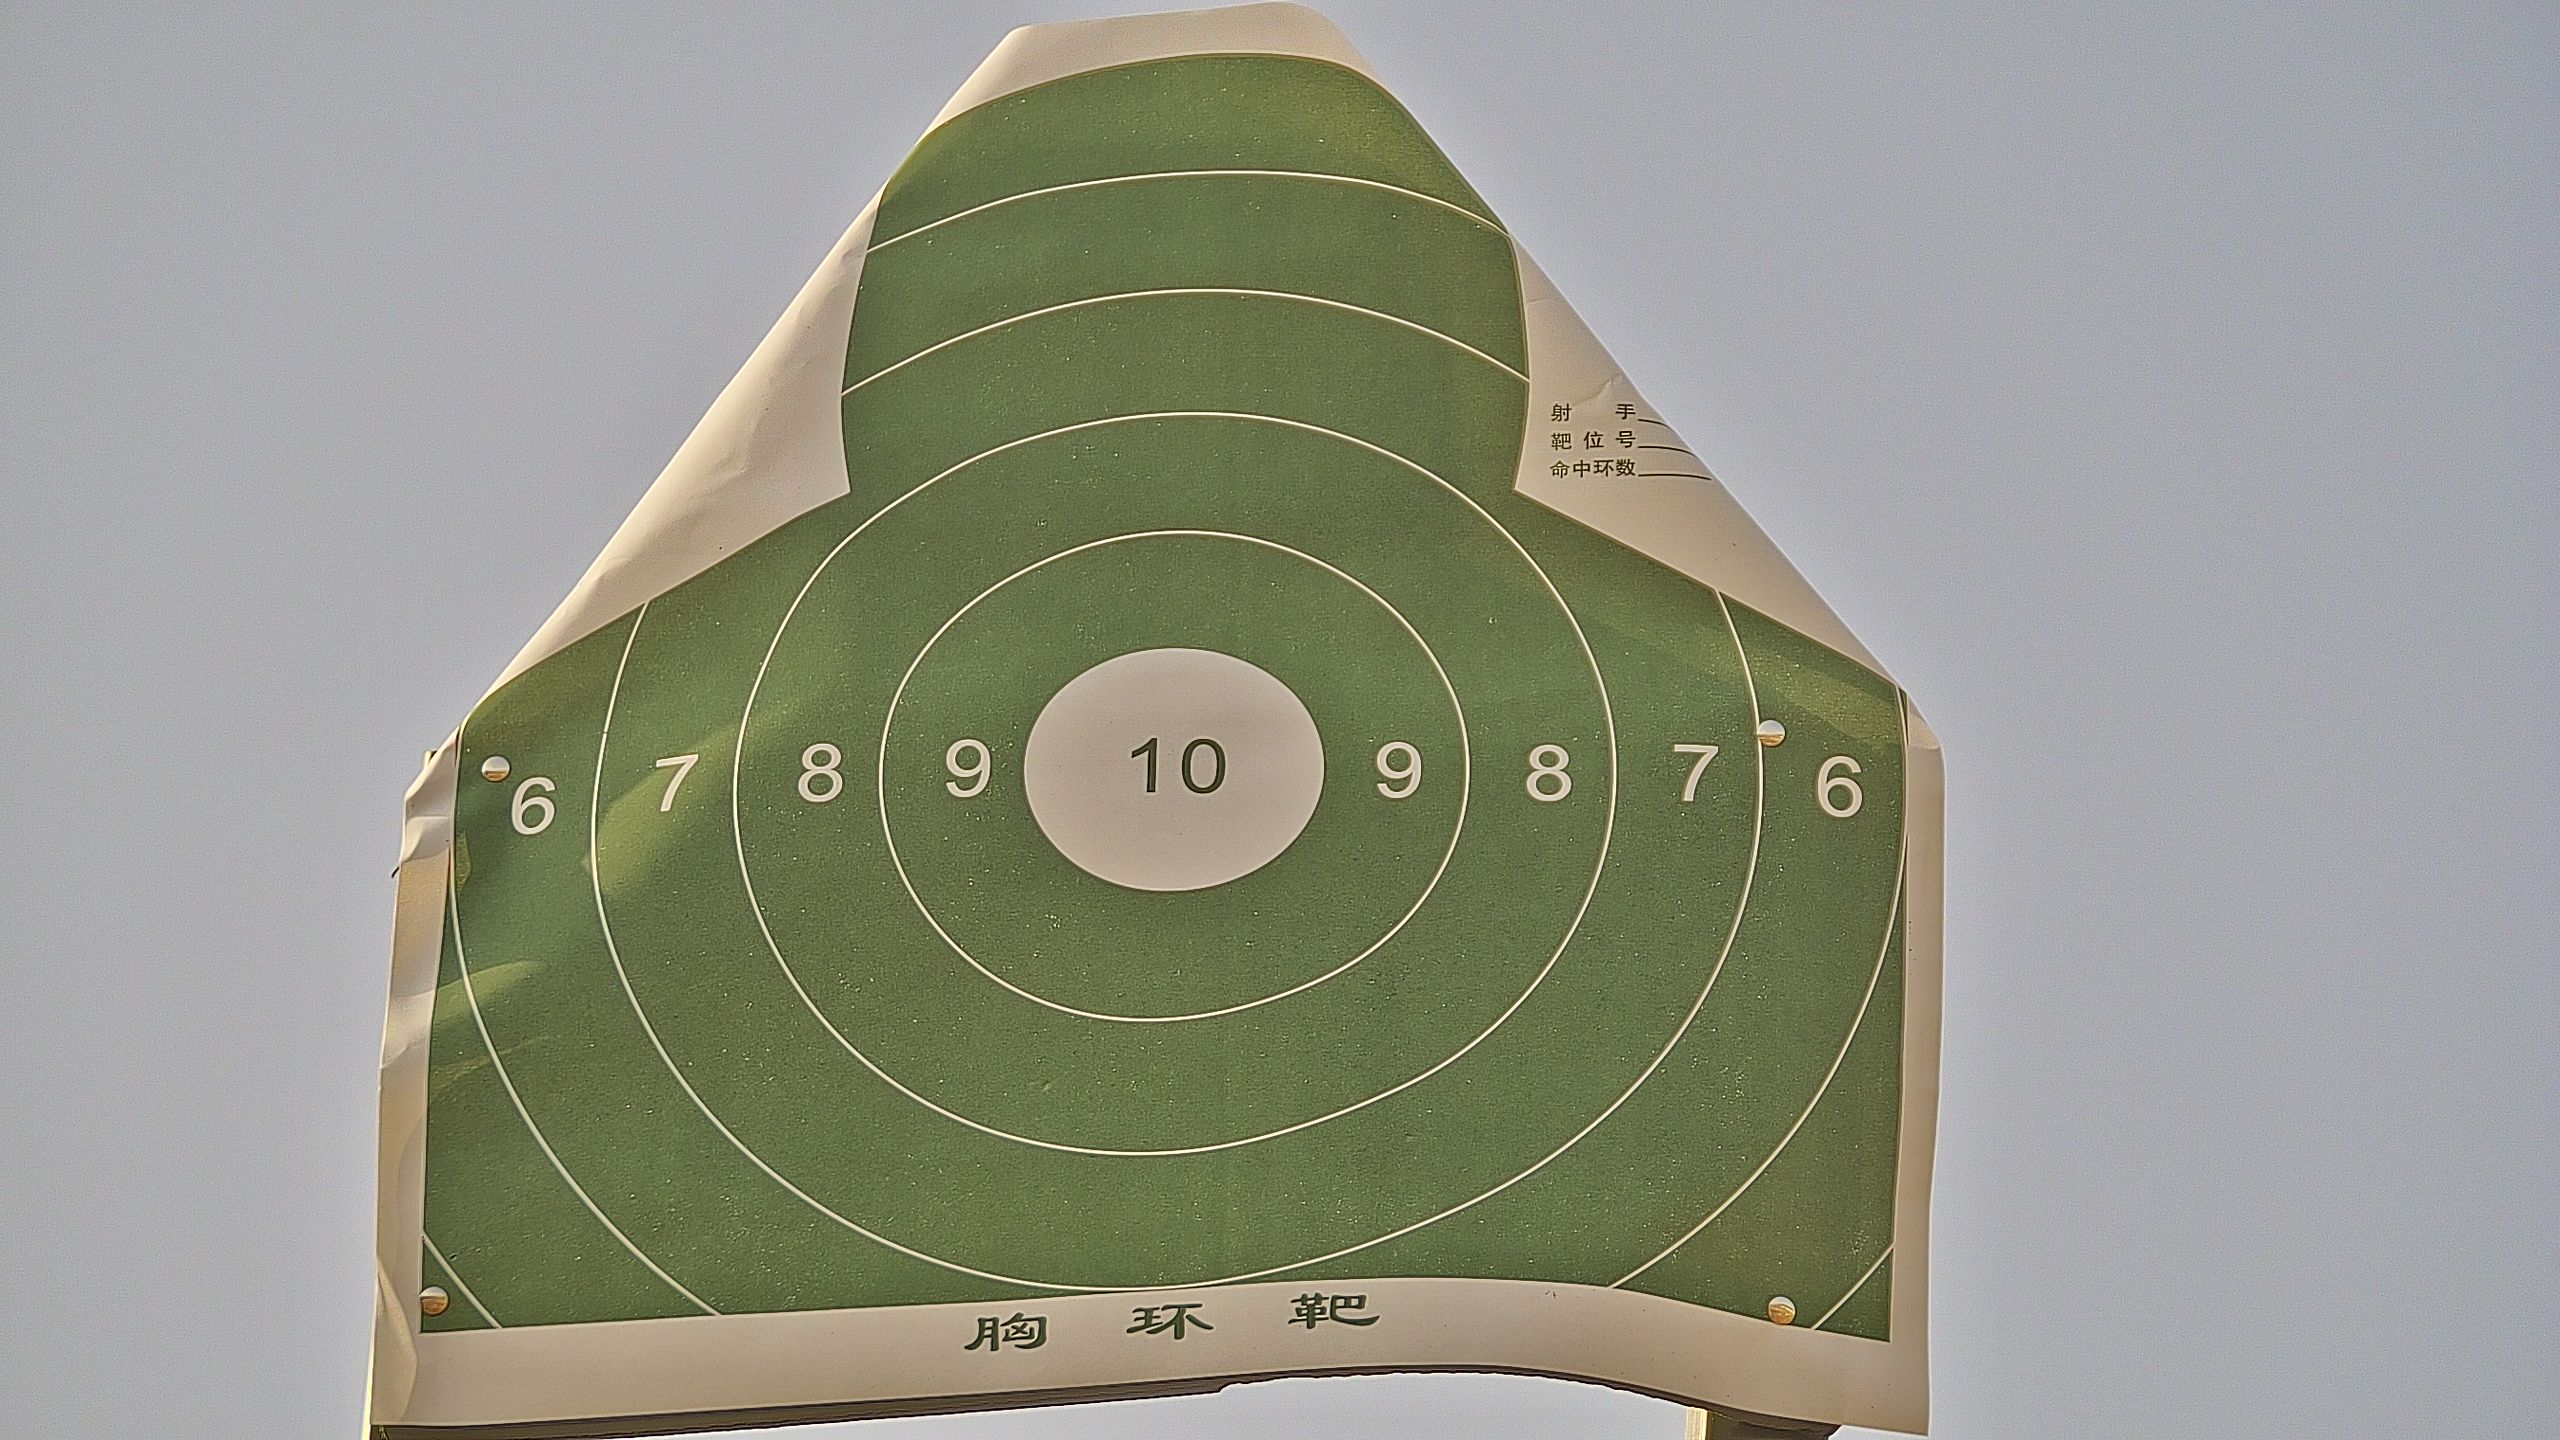target: (408, 55, 1904, 1350)
ten: (1020, 642, 1329, 888)
